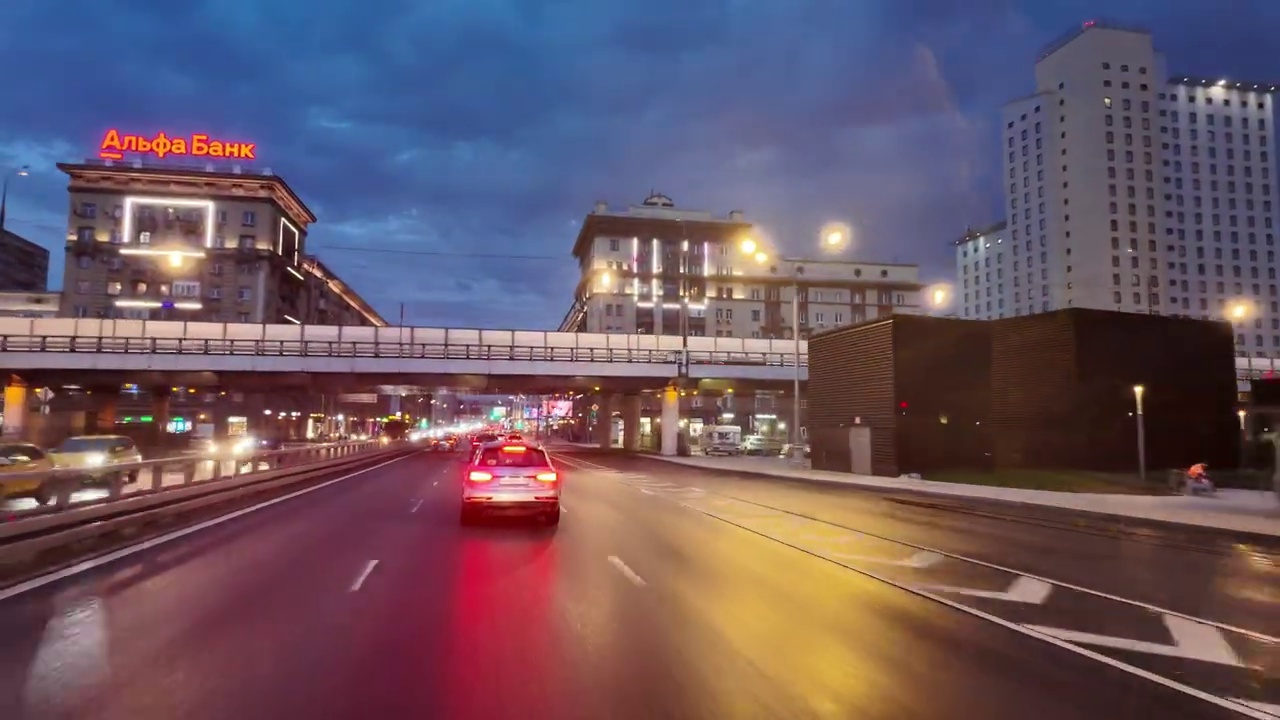acesa: (731, 230, 769, 269), (819, 222, 850, 254), (589, 263, 618, 294)
